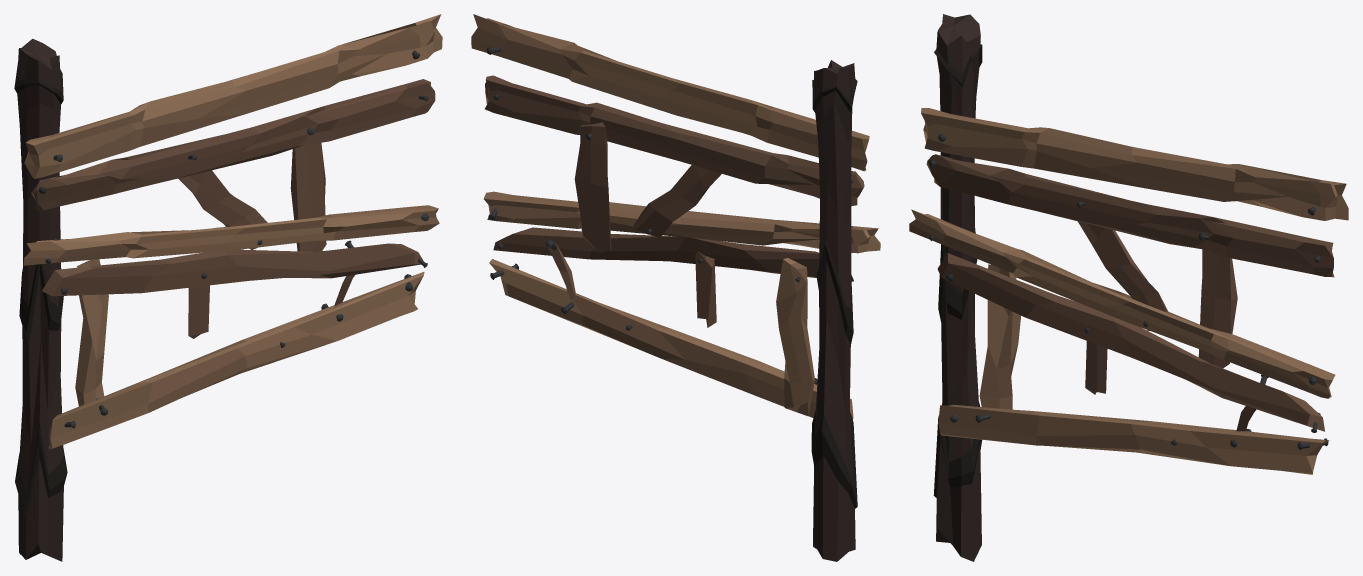
File: Fence Missing Post 1.fbx
3 views of the same model, side by side, from view 1: azimuth 30°, elevation 25°; view 2: azimuth 150°, elevation 25°; view 3: azimuth 330°, elevation 25° (orthographic). The views are drawn at different scales.
Parts seen in each view (by area): view 1: Nail.001; view 2: Nail.001; view 3: Nail.001.
Part boxes in pixels (<box>): Nail.001: <box>14,14,442,561</box>; Nail.001: <box>471,14,880,561</box>; Nail.001: <box>909,14,1348,561</box>.
Size of the model in its own units: 439 by 64.4 by 514.
